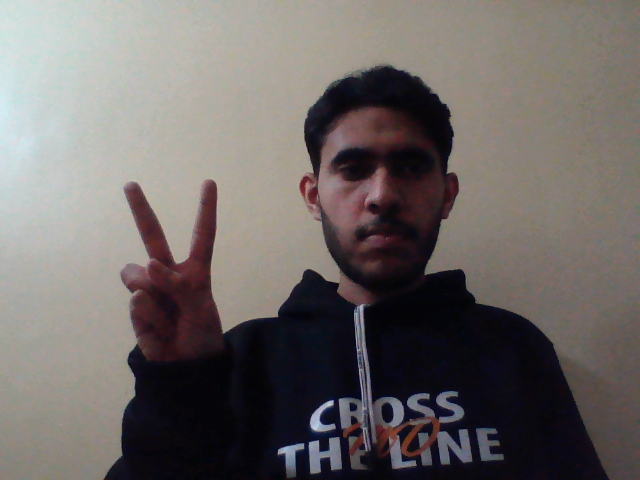V: (123, 176, 230, 376)
